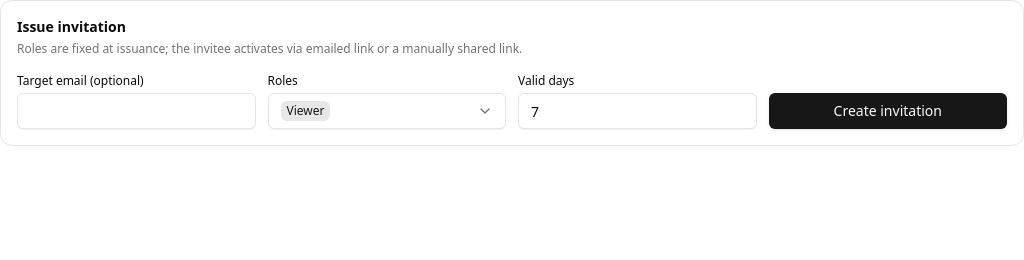
Test: InviteIssueCard › opens the dropdown, toggles roles, and submits the selected keys
Click the button "Viewer" at (387, 111), box [268,93,506,129]
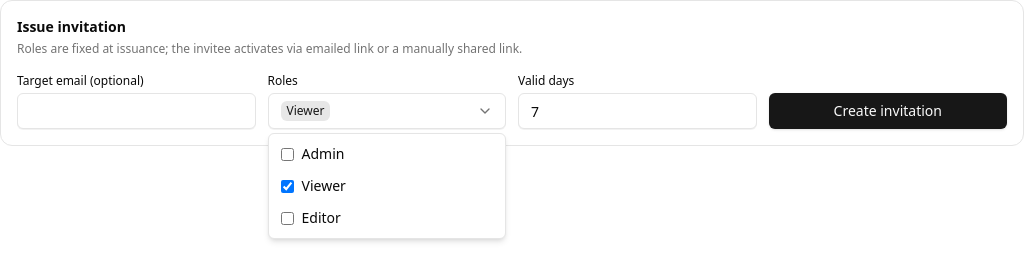
Click the checkbox labelled "Admin" at (287, 154), box [280,148,294,160]
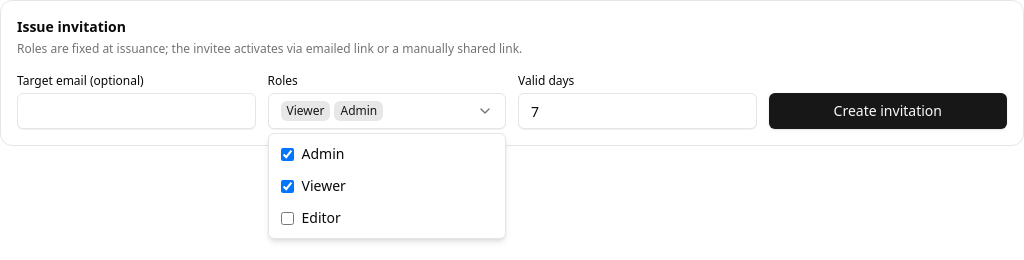
Result: the 1st text "Admin" is shown at [334,101,383,121]
Click the button "Create invitation" at (888, 111), box [768,93,1007,129]
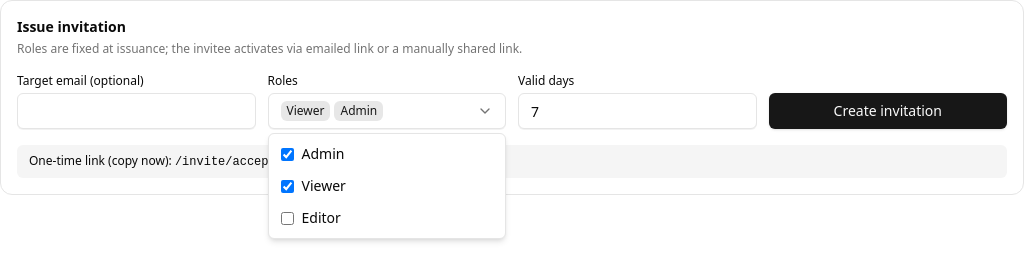
Result: the message "One-time link (copy now): /invite/accept?token=new-1" is shown at [17,145,1007,178]
